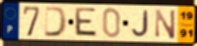0: (102, 7, 122, 39)
7: (22, 5, 41, 37)
D: (43, 6, 69, 38)
E: (73, 7, 99, 39)
J: (131, 10, 150, 38)
N: (154, 9, 177, 40)
